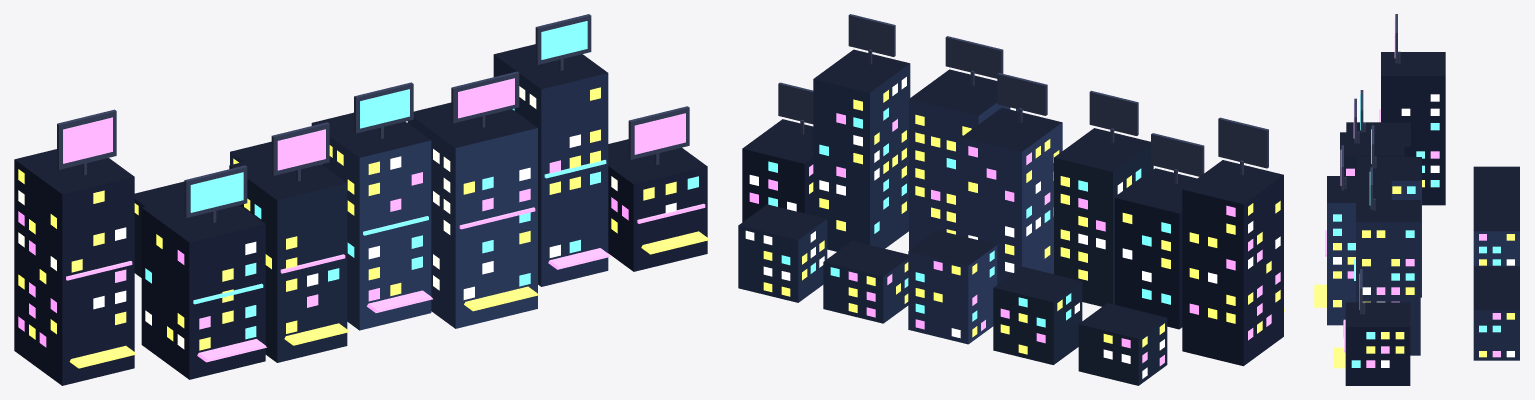
Rendered from W1_Mid_NeonBlock.fbx.
3 views of the same model, side by side, from view 1: azimuth 30°, elevation 25°; view 2: azimuth 150°, elevation 25°; view 3: azimuth 270°, elevation 25° (orthographic). The views are drawn at different scales.
Parts seen in each view (by area): view 1: W1_Mid_NeonBlock; view 2: W1_Mid_NeonBlock; view 3: W1_Mid_NeonBlock.
Boxes of the visible parts, x1,y1,x2,y2 form: W1_Mid_NeonBlock: [14, 14, 709, 385]; W1_Mid_NeonBlock: [738, 14, 1285, 385]; W1_Mid_NeonBlock: [1314, 14, 1519, 385].
Size of the model in its own units: 105 by 40.54 by 44.56.
